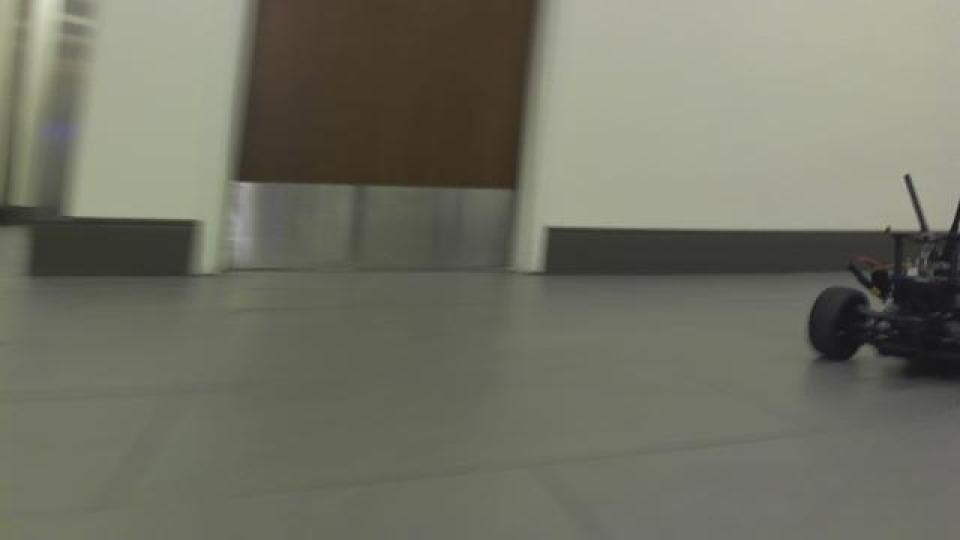car: (803, 171, 957, 378)
